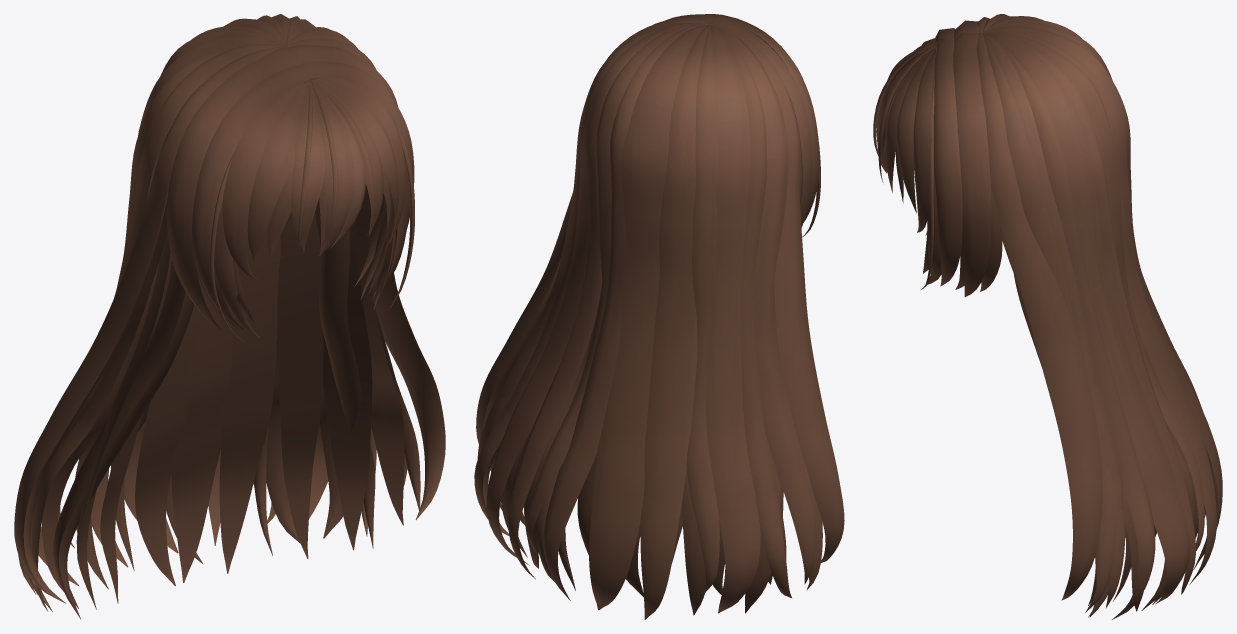
File: vroid_hair4.glb
3 renders of one model, left to right at view 1: azimuth 30°, elevation 25°; view 2: azimuth 150°, elevation 25°; view 3: azimuth 270°, elevation 25°, orthographic. The views are drawn at different scales.
Parts seen in each view (by area): view 1: hair; view 2: hair; view 3: hair.
Boxes of the visible parts, bbox=[...] form: hair: bbox=[14, 14, 445, 619]; hair: bbox=[474, 14, 844, 619]; hair: bbox=[873, 14, 1222, 619].
Bounding box in the file's own units: 0.3777 × 0.5201 × 0.3035.
Materials: 1 (1 with a texture image).
